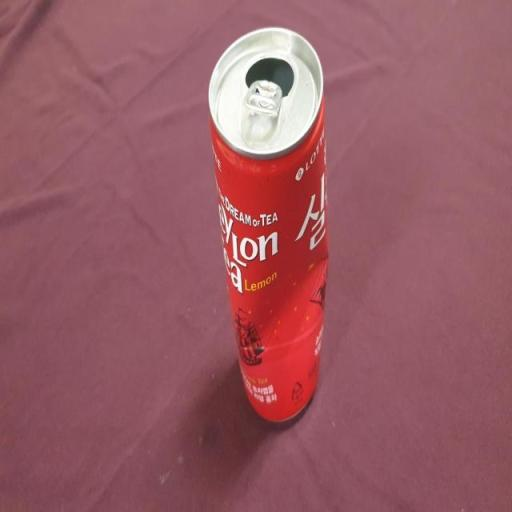metal: (200, 8, 340, 448)
